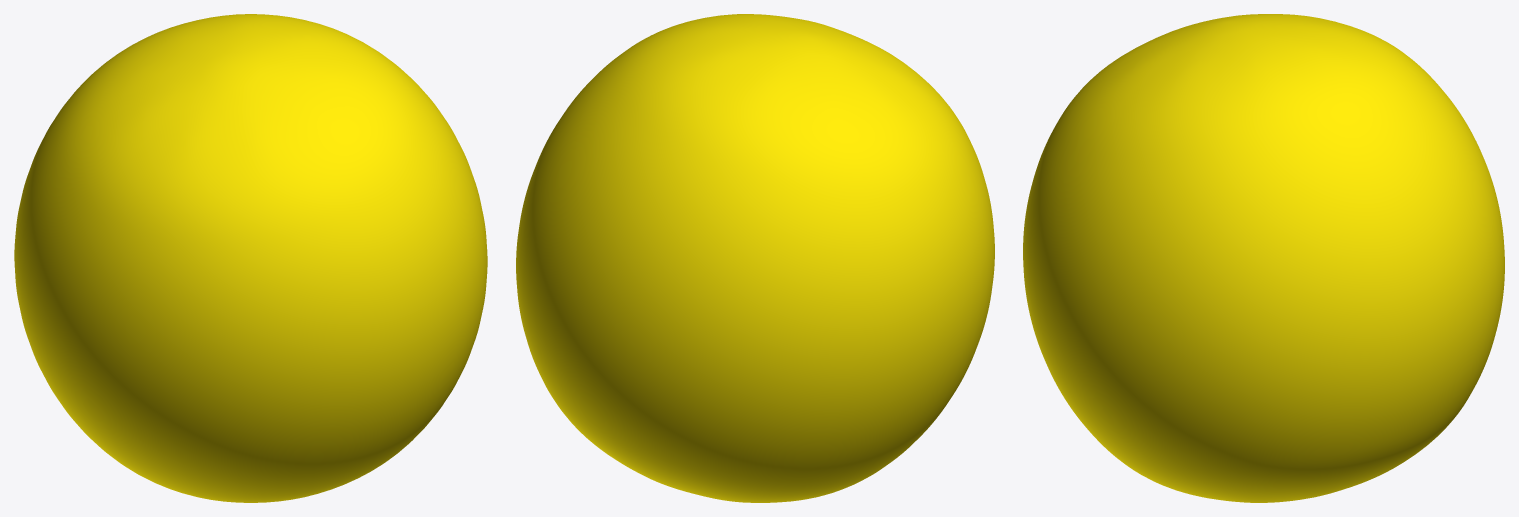
The model's file is marble_bitcoin.glb.
The picture shows the model from 3 angles, left to right: view 1: azimuth 30°, elevation 25°; view 2: azimuth 150°, elevation 25°; view 3: azimuth 270°, elevation 25°; orthographic projection.
Visible parts, largest first — view 1: skfb_offset; view 2: skfb_offset; view 3: skfb_offset.
Boxes of the visible parts, x1,y1,x2,y2 form: skfb_offset: (14,14,487,502); skfb_offset: (516,14,994,502); skfb_offset: (1023,14,1504,502).
Bounding box in the file's own units: 0.8353 × 0.845 × 0.8343.
